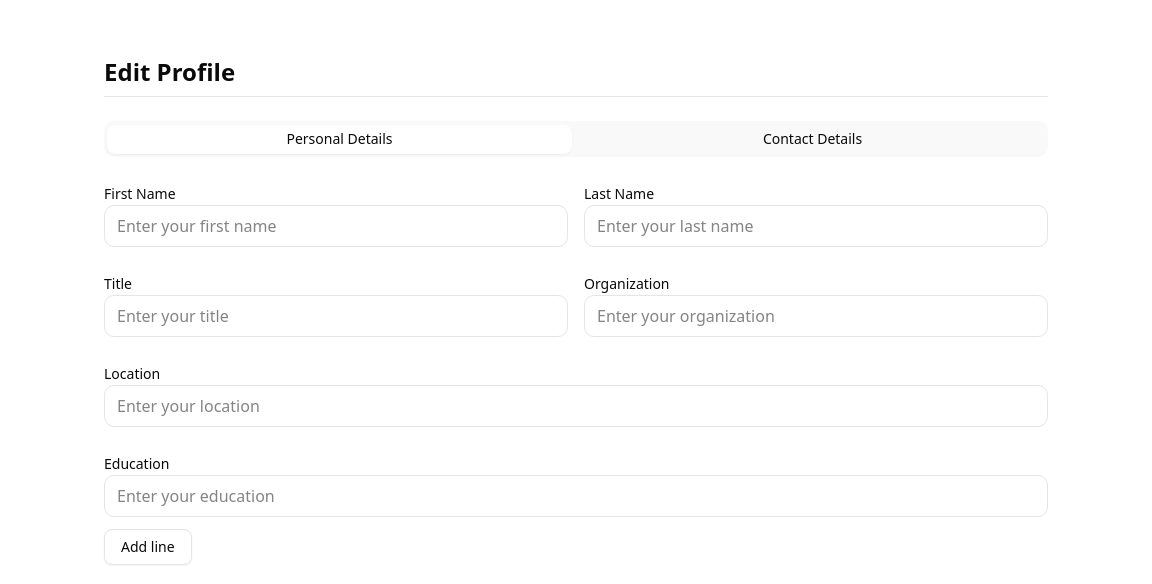
Scenario: EditUserProfile Component › Education Management › adds a new education field when the add button is clicked
The width and height of the screenshot is (1152, 584).
Step 1. Click the button "Add line" → click(148, 547), box [104, 529, 192, 565]
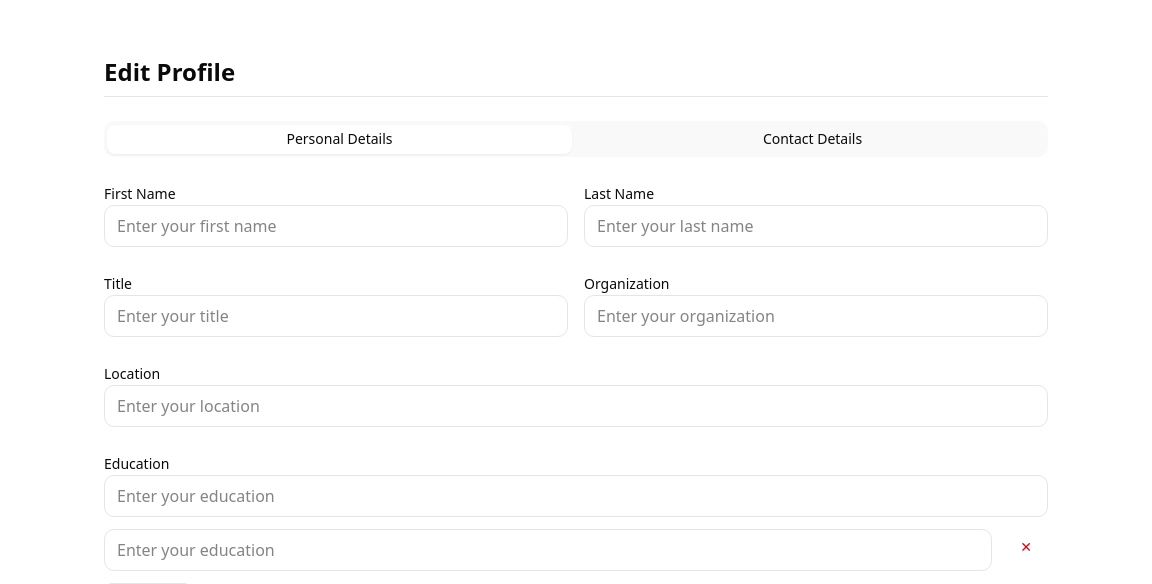
Expected: the number of fields with placeholder "Enter your education" is 2, [104, 475, 1048, 517]; [104, 529, 992, 571]
